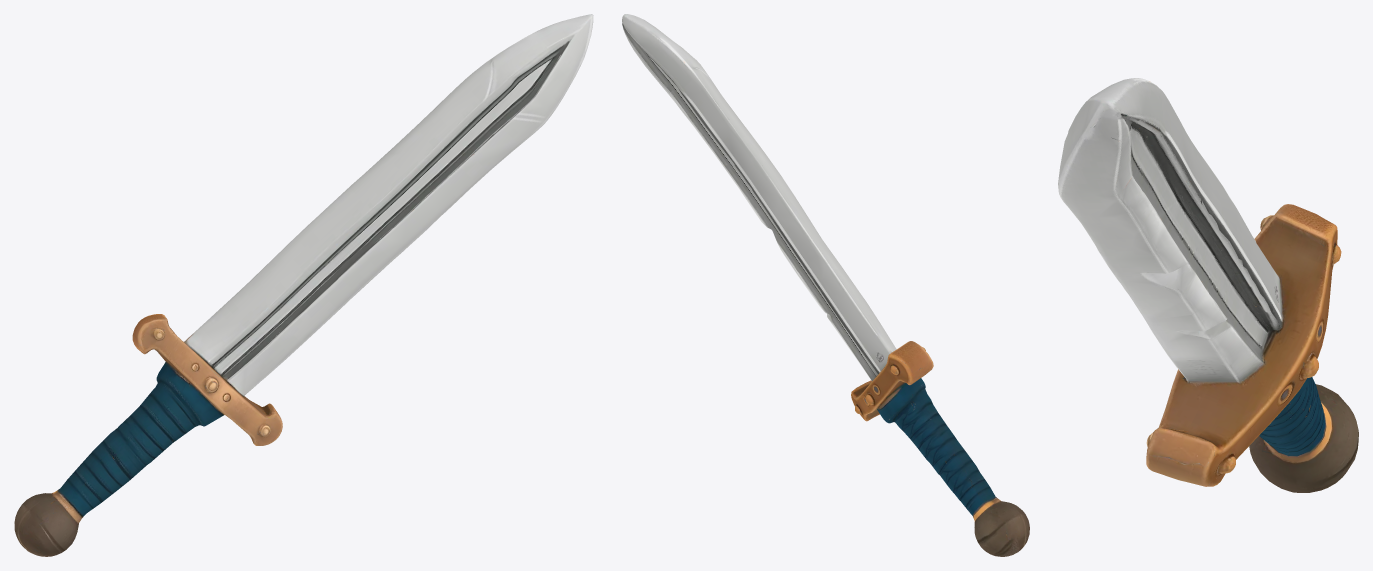
File: captain_sword.glb
3 views of the same model, side by side, from view 1: azimuth 30°, elevation 25°; view 2: azimuth 150°, elevation 25°; view 3: azimuth 270°, elevation 25° (orthographic). The views are drawn at different scales.
Parts seen in each view (by area): view 1: Mesh1.0; view 2: Mesh1.0; view 3: Mesh1.0.
Boxes of the visible parts, x1,y1,x2,y2 form: Mesh1.0: (14, 14, 593, 556); Mesh1.0: (622, 14, 1029, 556); Mesh1.0: (1058, 78, 1358, 492).
Size of the model in its own units: 1.9 by 1.61 by 0.5484.
Materials: 1 (1 with a texture image).
